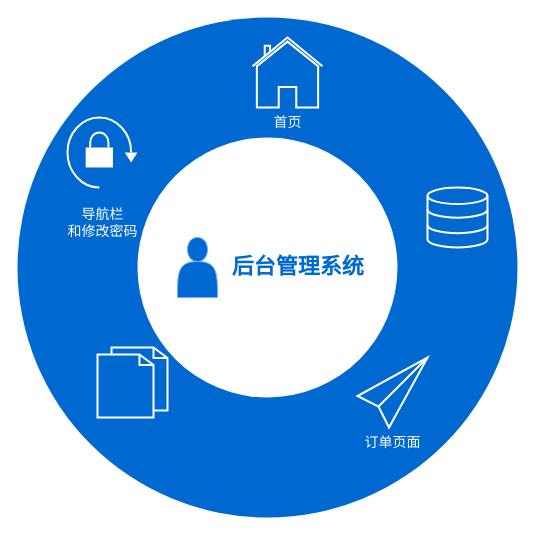
This 534x534 diagram has some shape labels left out. The shapes that lost their labels are listed below. From the top down, each one's box as (x1, y1, x2, y2) in pixels, then its label:
(426, 186, 488, 248): 商品页面
(96, 346, 168, 418): 活动页面
